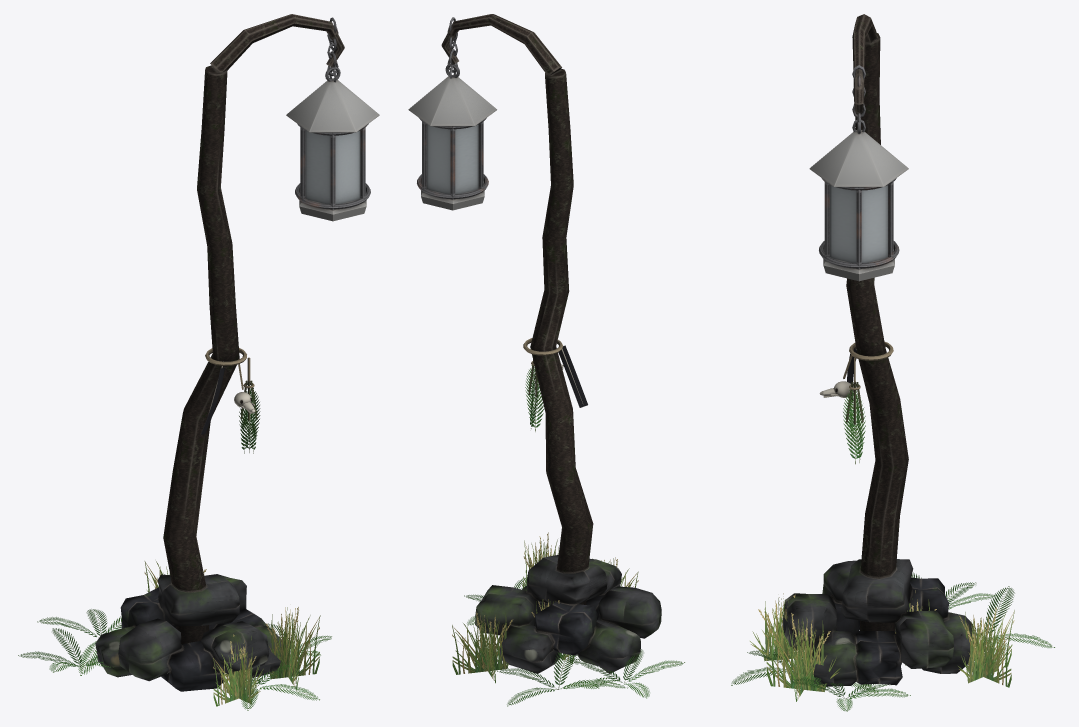
Rendered from WispLanternPost.fbx.
3 renders of one model, left to right at view 1: azimuth 30°, elevation 25°; view 2: azimuth 150°, elevation 25°; view 3: azimuth 270°, elevation 25°, orthographic. The views are drawn at different scales.
Parts seen in each view (by area): view 1: WispLanternPost_Main, WispLanternPost_Leaves, WispLanternPost_Glass; view 2: WispLanternPost_Main, WispLanternPost_Leaves, WispLanternPost_Glass; view 3: WispLanternPost_Main, WispLanternPost_Leaves, WispLanternPost_Glass.
Part boxes in pixels (x1,y1,x2,y2): WispLanternPost_Main: (95, 14, 379, 691); WispLanternPost_Leaves: (18, 388, 331, 710); WispLanternPost_Glass: (305, 131, 360, 204); WispLanternPost_Main: (408, 14, 661, 673); WispLanternPost_Leaves: (452, 365, 684, 706); WispLanternPost_Glass: (427, 124, 478, 194); WispLanternPost_Main: (782, 14, 974, 686); WispLanternPost_Leaves: (731, 389, 1054, 711); WispLanternPost_Glass: (830, 185, 887, 262).
Size of the model in its own units: 416 by 821 by 380.
